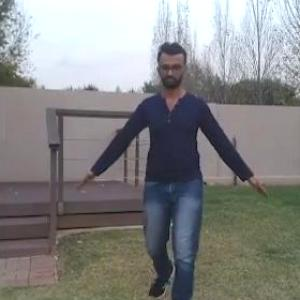land: (94, 47, 266, 299)
